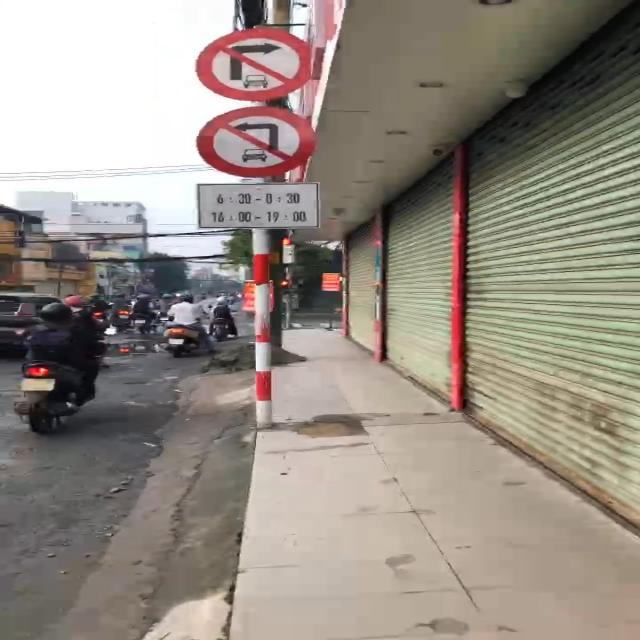Bien bao cam xe o to re phai: (192, 24, 322, 104)
Bien bao cam xe o to re trai: (192, 104, 323, 181)
